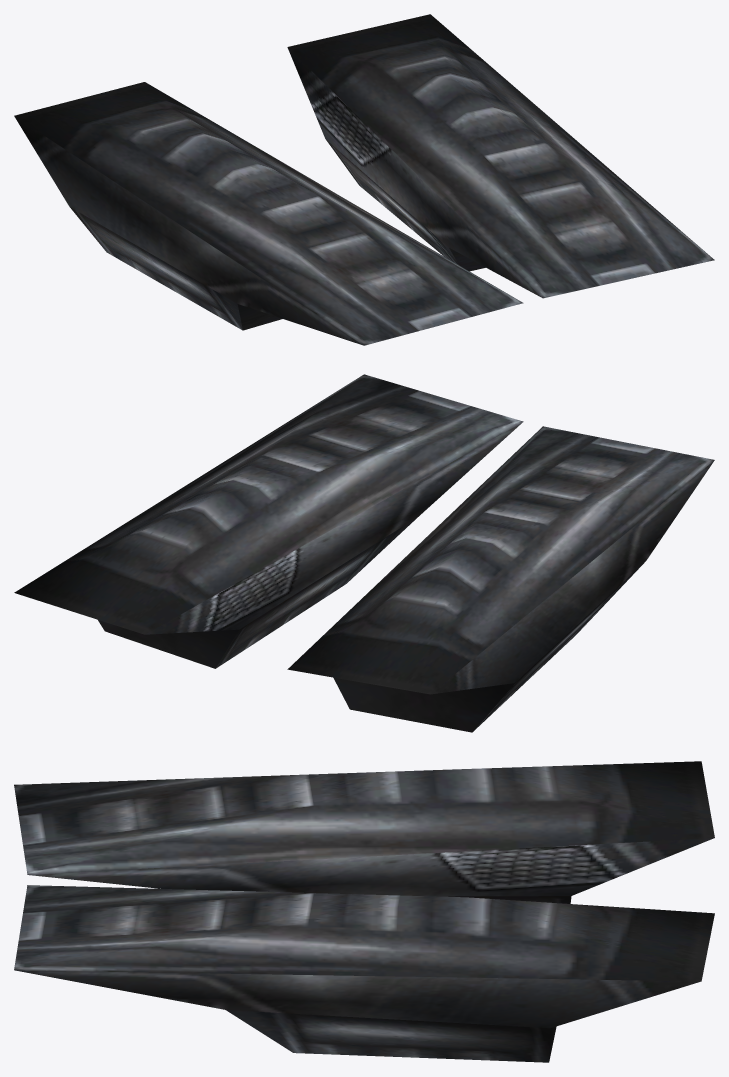
File: ArmPads7__EC.glb
3 views of the same model, one above another, from view 1: azimuth 30°, elevation 25°; view 2: azimuth 150°, elevation 25°; view 3: azimuth 270°, elevation 25° (orthographic). The views are drawn at different scales.
Visible parts, largest first — view 1: ArmPads7; view 2: ArmPads7; view 3: ArmPads7.
Part boxes in pixels (bbox=[...]): ArmPads7: bbox=[14, 14, 714, 345]; ArmPads7: bbox=[14, 374, 714, 732]; ArmPads7: bbox=[14, 761, 714, 1062].
Bounding box in the file's own units: 15.43 × 4.33 × 19.41.
1 material, 1 textured.
